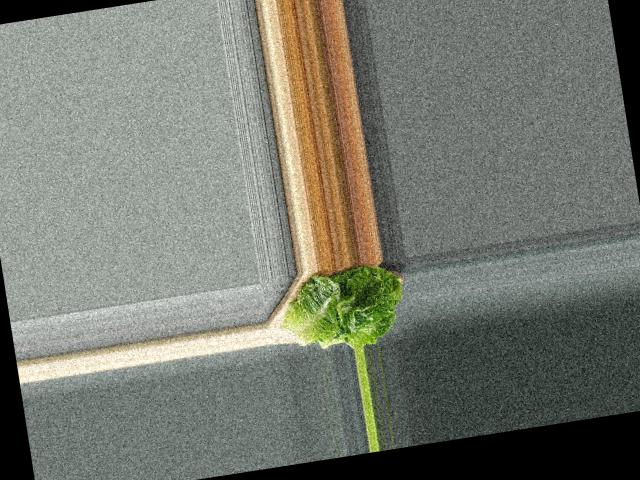lettuce: (277, 256, 413, 357)
